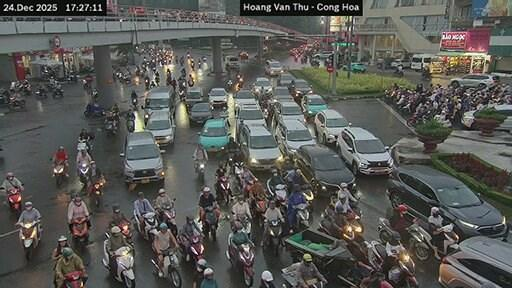motorbike: (319, 205, 362, 242), (227, 233, 253, 286), (386, 248, 418, 286), (406, 221, 432, 260), (111, 246, 133, 287), (19, 220, 41, 259), (409, 224, 432, 260), (162, 250, 181, 287), (134, 211, 156, 242), (178, 234, 202, 261), (266, 179, 284, 214), (438, 223, 457, 253), (288, 202, 309, 229), (73, 216, 88, 253), (438, 224, 457, 253), (365, 239, 386, 265), (263, 220, 281, 249), (201, 207, 217, 239), (160, 205, 176, 234), (226, 148, 242, 174), (378, 217, 393, 242), (217, 175, 230, 203), (88, 180, 102, 206), (252, 198, 265, 225), (300, 184, 313, 211), (7, 189, 21, 214), (64, 270, 83, 287), (77, 162, 89, 188), (407, 112, 429, 126), (118, 220, 131, 243), (83, 103, 105, 116), (237, 216, 250, 238), (233, 162, 243, 189), (240, 174, 252, 196), (7, 94, 25, 108), (54, 162, 64, 185), (102, 233, 108, 269), (76, 139, 90, 152), (195, 161, 204, 180), (106, 120, 115, 135), (125, 117, 134, 131), (51, 88, 63, 98), (35, 89, 47, 98), (22, 82, 31, 94), (45, 81, 57, 90), (10, 81, 22, 90), (179, 85, 185, 99), (121, 73, 130, 82), (310, 58, 319, 67), (393, 68, 403, 76), (92, 89, 98, 102), (150, 259, 157, 270), (67, 73, 76, 81), (131, 98, 137, 109), (422, 72, 431, 79), (144, 79, 149, 89), (227, 79, 231, 90), (150, 81, 156, 88), (330, 197, 335, 202), (202, 55, 205, 62)
